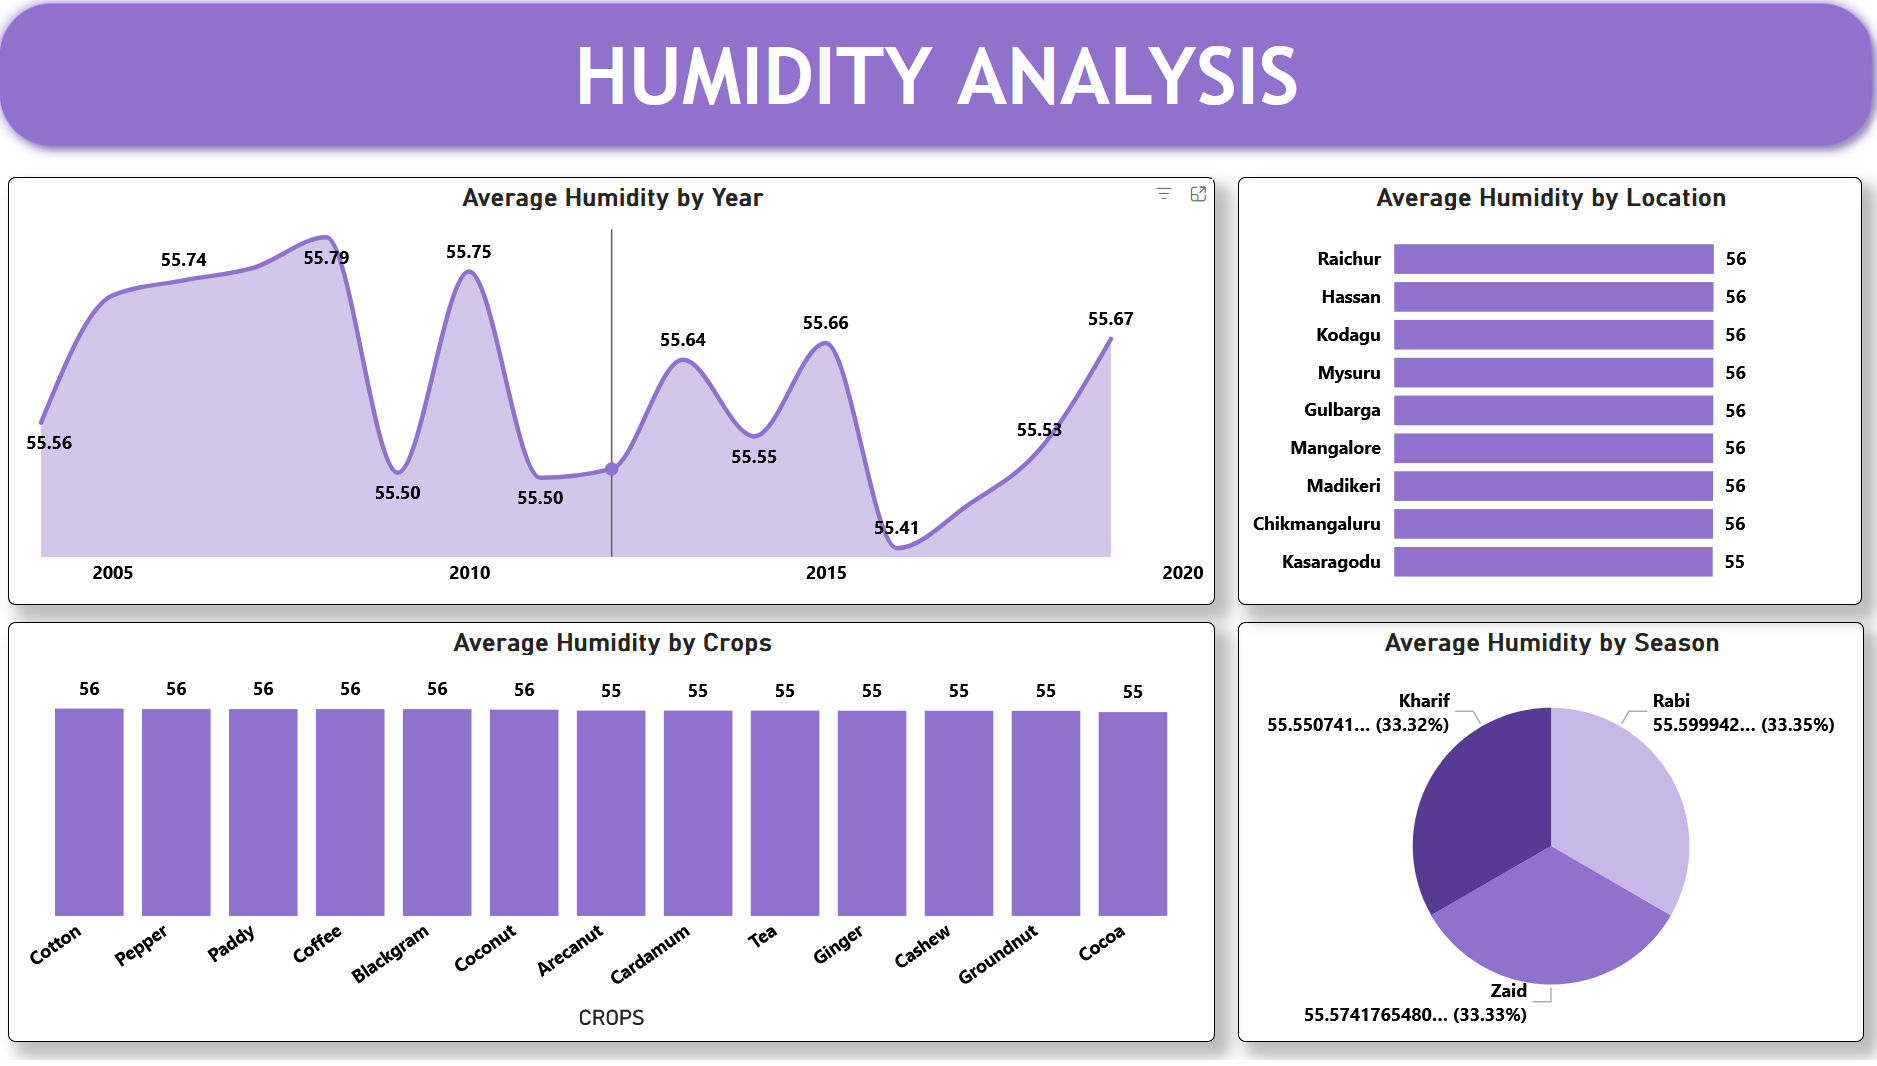

Layout of this report page (visuals, bound fields, positions):
{"tool":"powerbi","page":{"name":"Humidity Aanalysis","canvas":[1280,720],"ordinal":2},"visuals":[{"type":"shape","box":[0,0,1280,113.6],"z":0},{"type":"lineChart","title":"Average Humidity by Year","fields":{"Category":["AGRICULTURE.YEAR"],"Y":["Avg(AGRICULTURE.HUMIDITY)"]},"box":[13.9,125.5,812.8,287.9],"z":1000},{"type":"pieChart","title":"Average Humidity by Season","fields":{"Category":["AGRICULTURE.SEASON"],"Y":["Avg(AGRICULTURE.HUMIDITY)"]},"box":[842.7,425.3,421.4,282.9],"z":2000},{"type":"columnChart","title":"Average Humidity by Crops","fields":{"Category":["AGRICULTURE.CROPS"],"Y":["Avg(AGRICULTURE.HUMIDITY)"]},"box":[13.9,425.3,812.8,282.9],"z":3000},{"type":"barChart","title":"Average Humidity by Location","fields":{"Category":["AGRICULTURE.LOCATION"],"Y":["Avg(AGRICULTURE.HUMIDITY)"]},"box":[842.7,125.5,420.4,287.9],"z":4000}]}

Visuals, with their boxes in screenshot pixels (x1, y1, x2, y2), scaled from the page's 1280x720 canvas onto the 1877x1066 screenshot:
shape: bbox(0, 0, 1876, 168)
"Average Humidity by Year" lineChart: bbox(20, 186, 1212, 612)
"Average Humidity by Season" pieChart: bbox(1236, 630, 1854, 1049)
"Average Humidity by Crops" columnChart: bbox(20, 630, 1212, 1049)
"Average Humidity by Location" barChart: bbox(1236, 186, 1852, 612)
